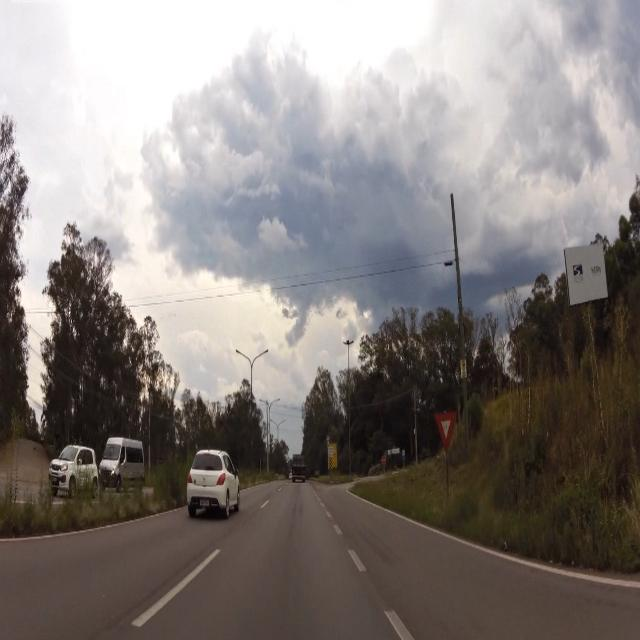R-2: (434, 410, 456, 451)
